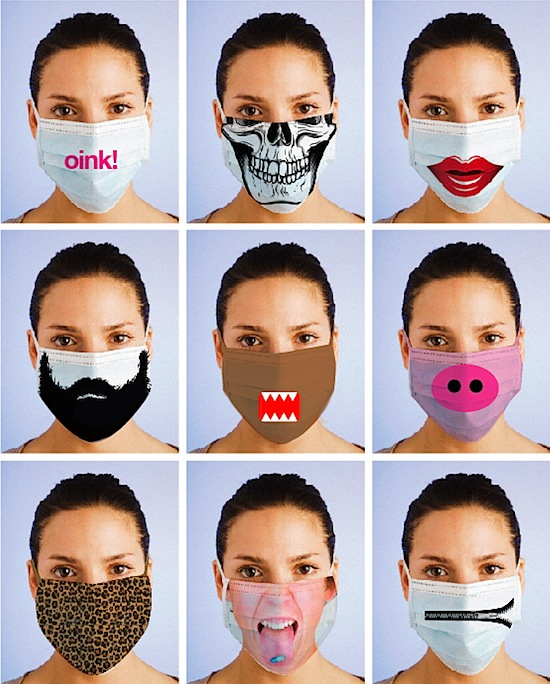face_mask: (36, 504, 146, 668), (408, 41, 517, 206), (408, 504, 517, 668), (37, 39, 144, 204), (221, 274, 331, 432), (409, 274, 518, 429), (222, 43, 328, 201), (226, 507, 326, 672), (39, 274, 144, 429)
